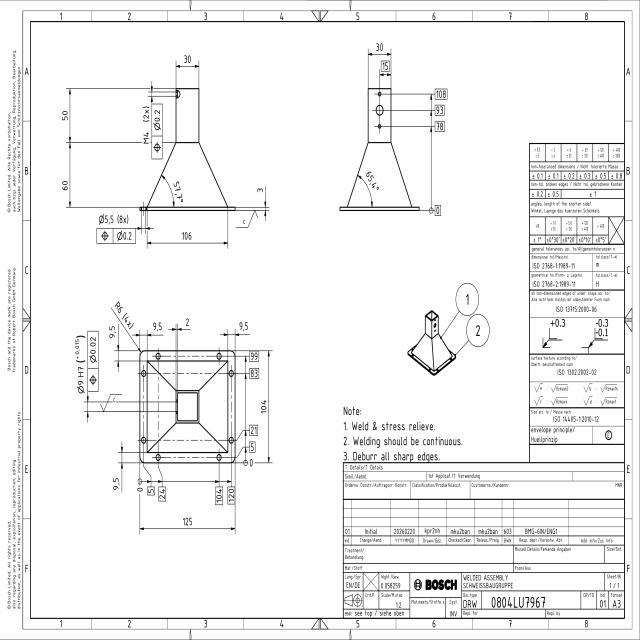dimension: (138, 516, 237, 536), (258, 347, 274, 467), (109, 299, 143, 354), (145, 229, 230, 250), (96, 212, 154, 235), (366, 42, 393, 90), (173, 53, 201, 91), (356, 168, 382, 208), (131, 320, 165, 349), (74, 332, 89, 396), (160, 174, 186, 210), (60, 140, 73, 210), (142, 80, 155, 146), (61, 85, 75, 146), (219, 320, 251, 343), (108, 322, 122, 374), (111, 440, 125, 491), (167, 316, 192, 339), (256, 184, 268, 224), (378, 59, 393, 84), (225, 477, 237, 506), (428, 87, 449, 102), (214, 477, 224, 506), (243, 348, 260, 364), (243, 366, 260, 382), (428, 104, 446, 118), (157, 478, 167, 503), (428, 121, 446, 134), (244, 423, 259, 438), (145, 477, 156, 497), (428, 204, 443, 218), (244, 439, 257, 455), (242, 457, 255, 470), (136, 476, 144, 494)
